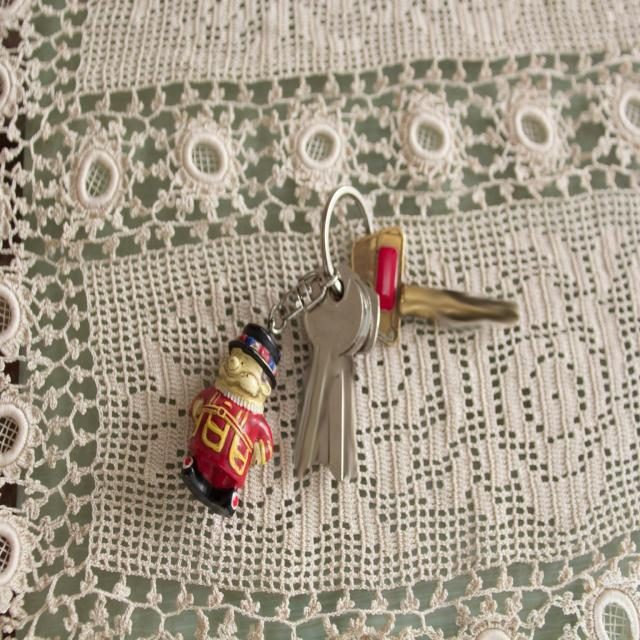Frontdoor keys: (348, 223, 520, 351), (284, 262, 382, 484)
